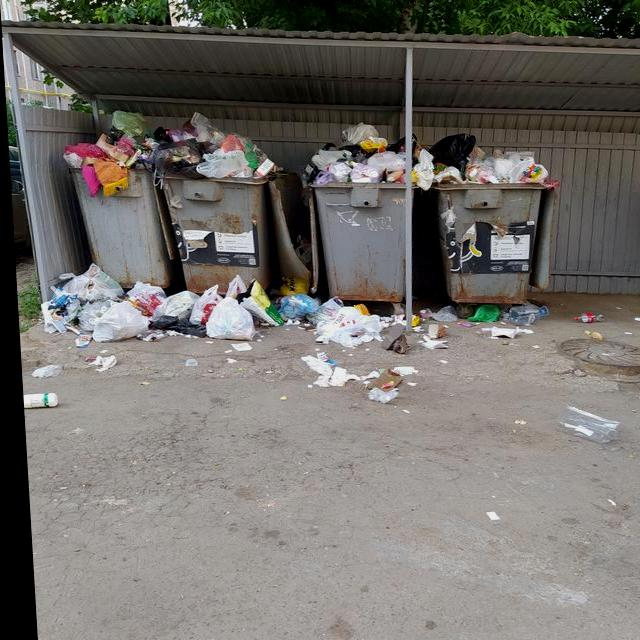Trash_Can_Full: (149, 111, 283, 297), (60, 109, 177, 289), (426, 133, 547, 303), (298, 122, 412, 300)
